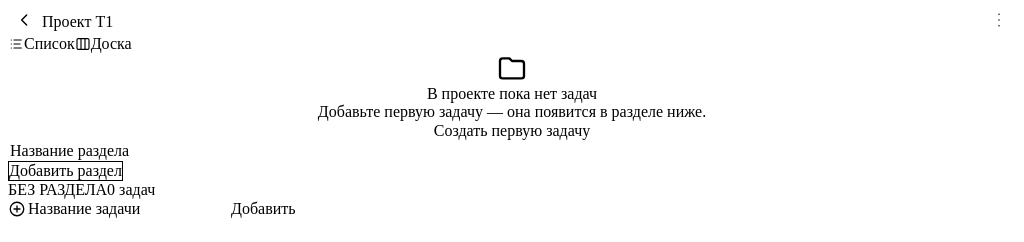
Test: ProjectDetail — CRUD секций (E09.4) › форма создания раздела — новый раздел появляется в списке (List)
This screenshot has width=1024, height=242.
Expected: the text "В проекте пока нет задач" is shown, 427,85 -> 597,103
Step 1. Type "Новый раздел" into the field named "Заголовок нового раздела" → (512, 151), box 8,141 -> 1016,161
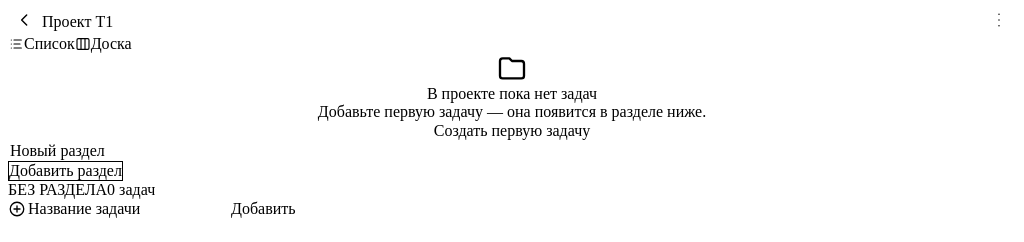
Step 2. Click the button "Добавить раздел" → (65, 171), box 8,161 -> 123,181
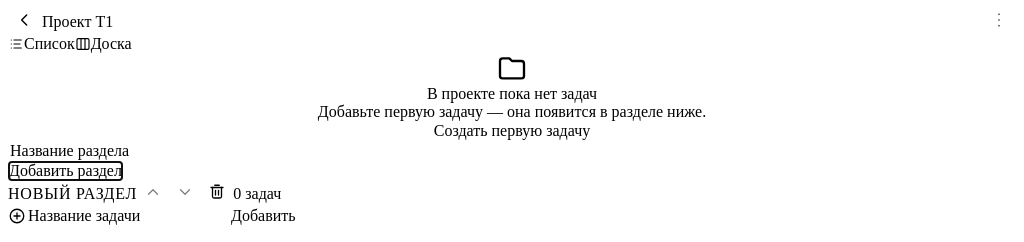
Expected: the button "Новый раздел" is shown, 8,184 -> 137,202
